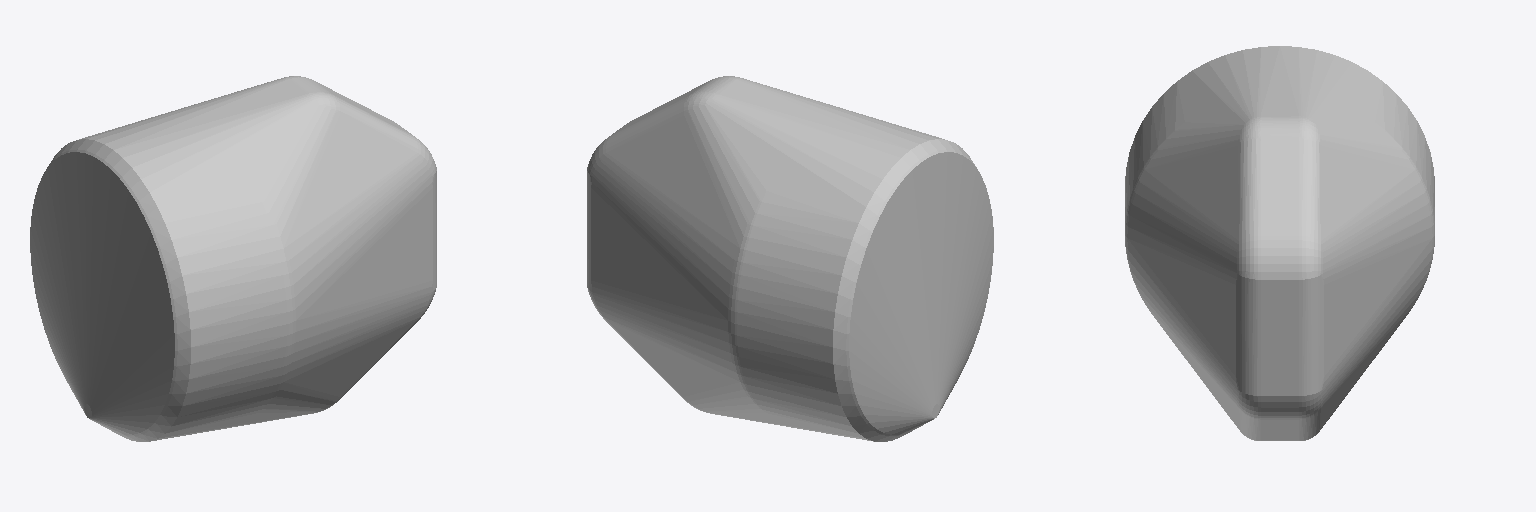
File: robotiq_85_base_link.obj
The picture shows the model from 3 angles: view 1: azimuth 30°, elevation 25°; view 2: azimuth 150°, elevation 25°; view 3: azimuth 270°, elevation 25°; orthographic projection.
Bounding box in the file's own units: 0.0937 × 0.0849 × 0.075.